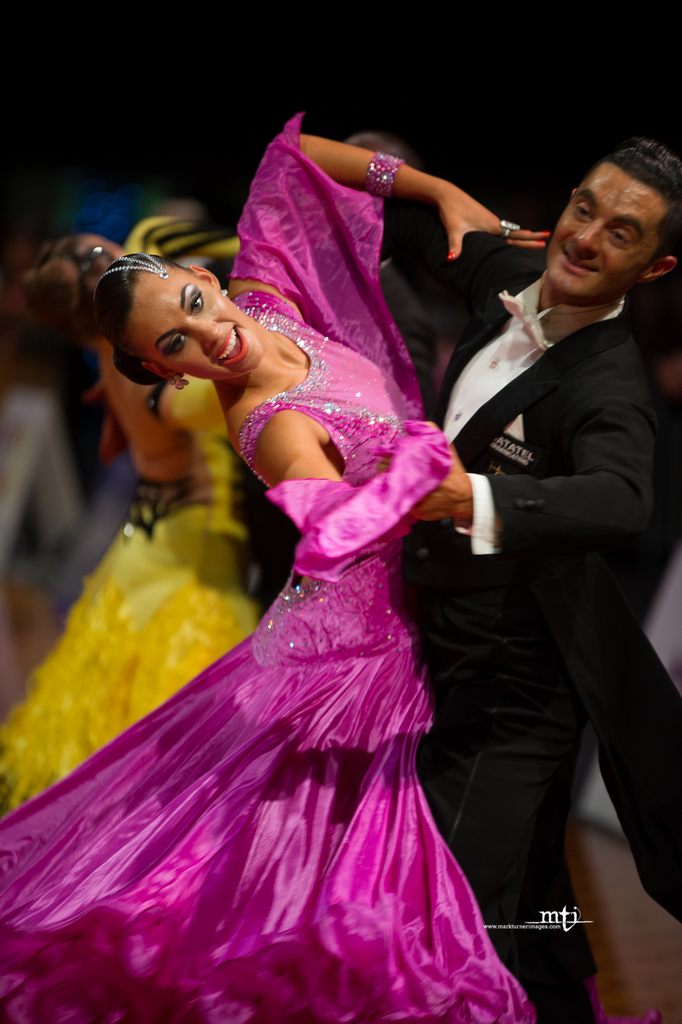Person: (0, 112, 681, 1023)
